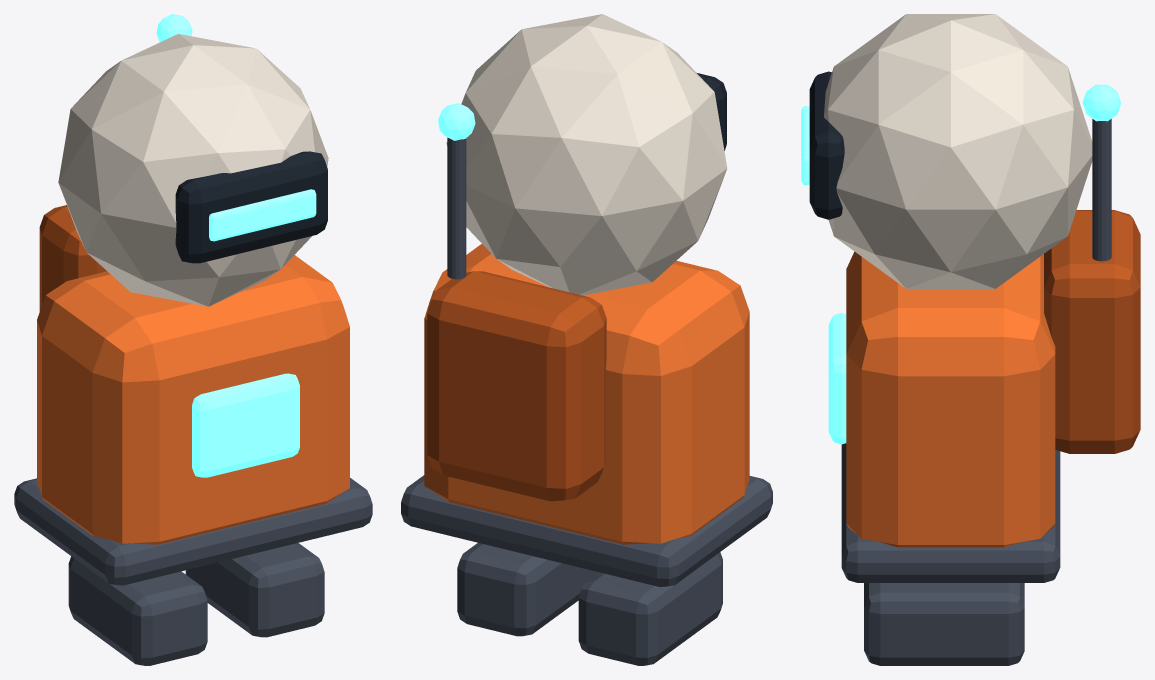
The model's file is player_orange.glb.
3 renders of one model, left to right at view 1: azimuth 30°, elevation 25°; view 2: azimuth 150°, elevation 25°; view 3: azimuth 270°, elevation 25°, orthographic. The views are drawn at different scales.
Visible parts, largest first — view 1: player_orange; view 2: player_orange; view 3: player_orange.
Part boxes in pixels (left/top/right/bottom): player_orange: left=14, top=14, right=372, bottom=665; player_orange: left=401, top=14, right=772, bottom=665; player_orange: left=801, top=14, right=1140, bottom=665.
Bounding box in the file's own units: 1 × 2.07 × 1.05.
